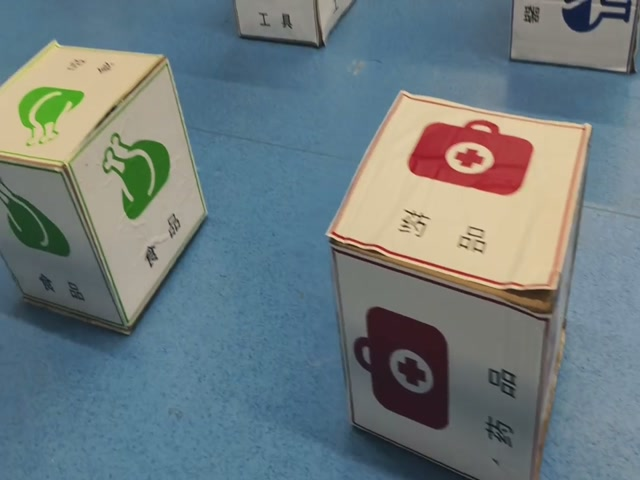Cube_food: (1, 27, 167, 177)
Cube_medicine: (332, 80, 596, 310)
